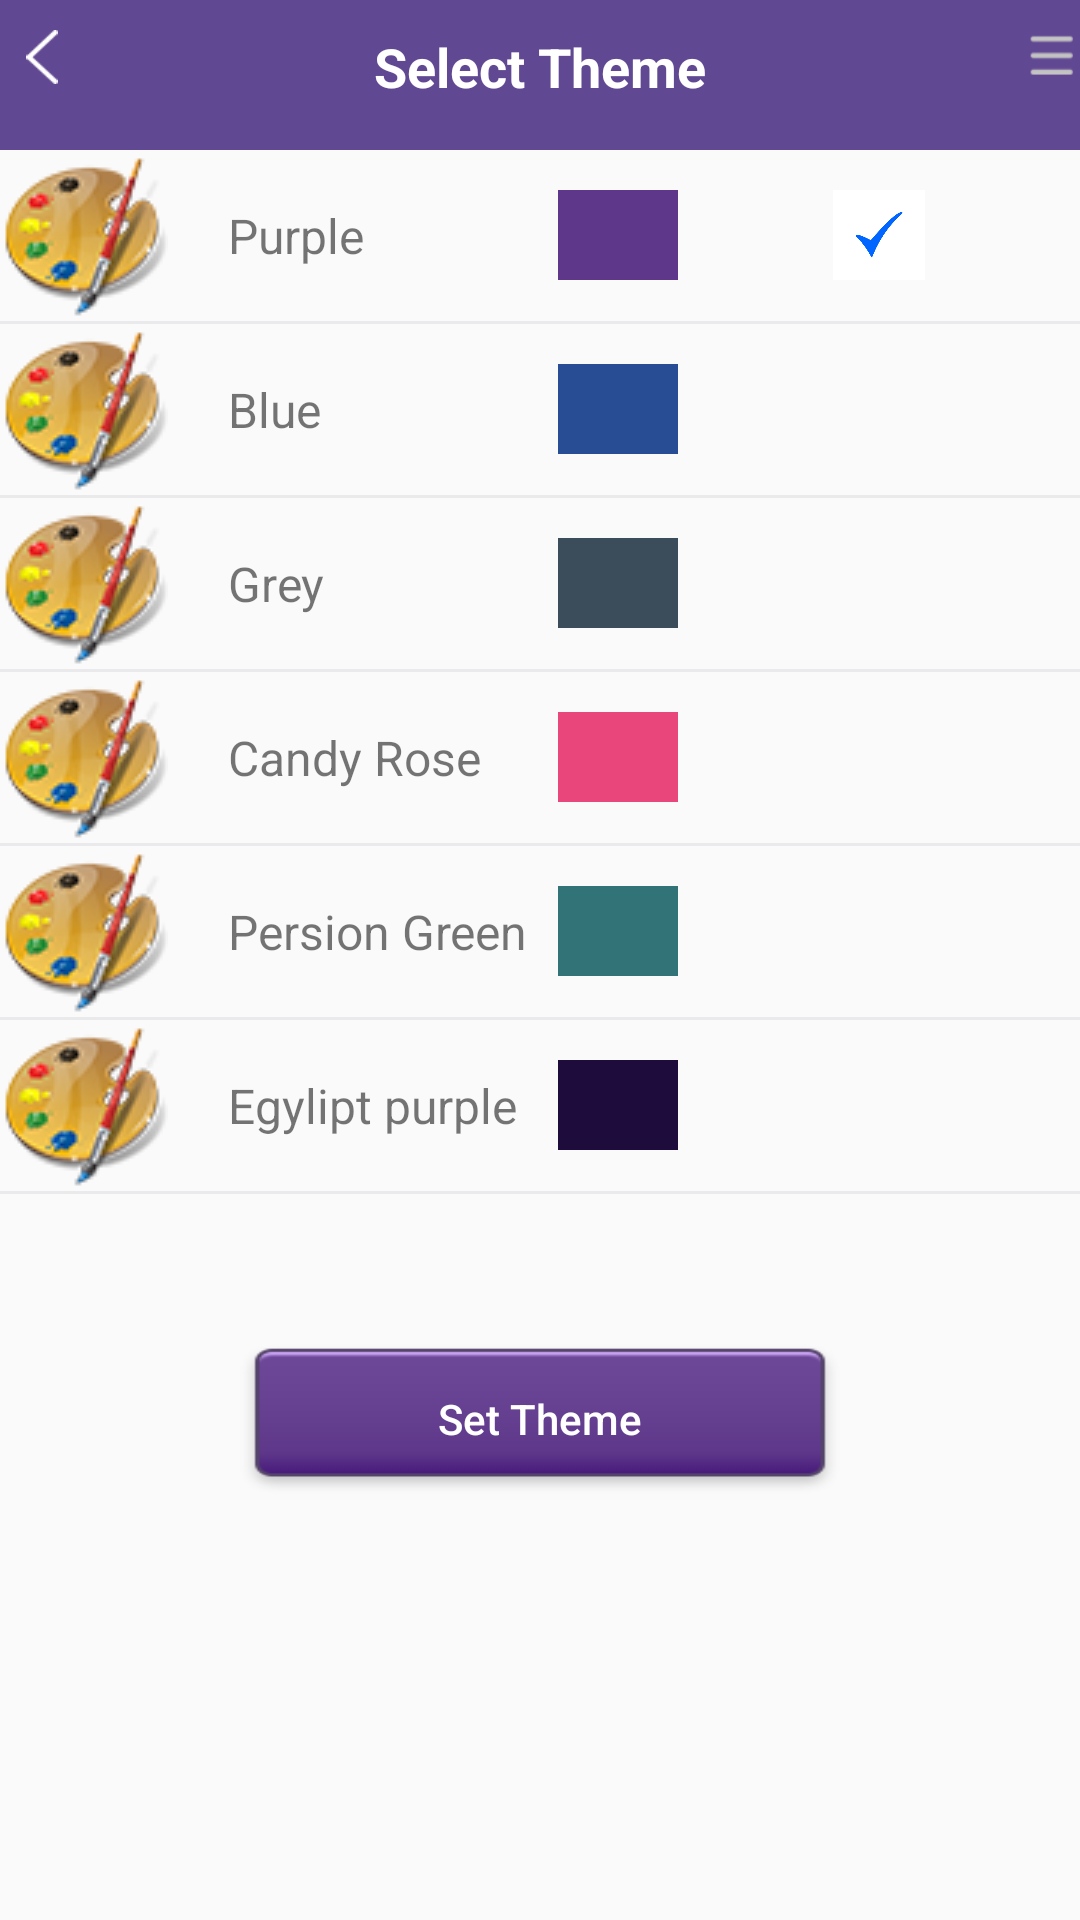

Named icons in this screenshot (1080px×1920px) and their centers, (x=x, y=y):
back arrow: (x=42, y=57)
three bars: (x=1051, y=55)
tick mark: (x=879, y=234)
